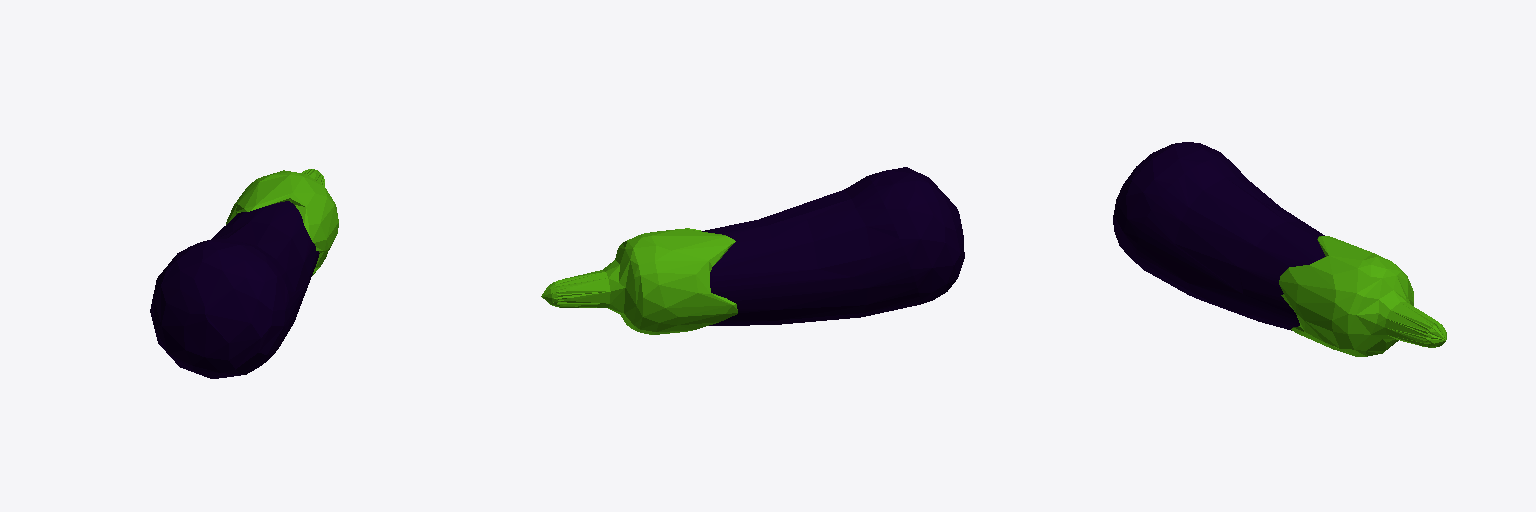
File: Eggplant.obj
3 renders of one model, left to right at view 1: azimuth 30°, elevation 25°; view 2: azimuth 150°, elevation 25°; view 3: azimuth 270°, elevation 25°, orthographic.
Size of the model in its own units: 1524 by 674 by 1534.